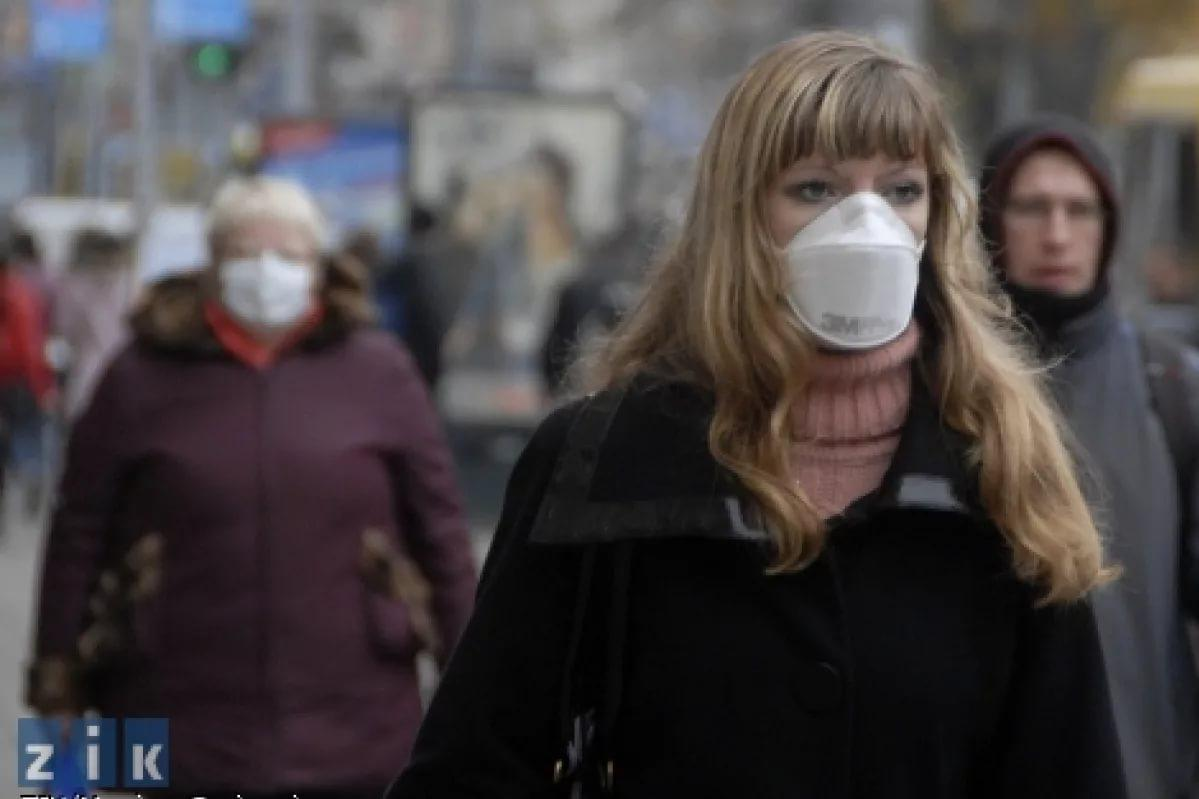mask: (760, 110, 943, 347)
none: (1009, 153, 1109, 297)
